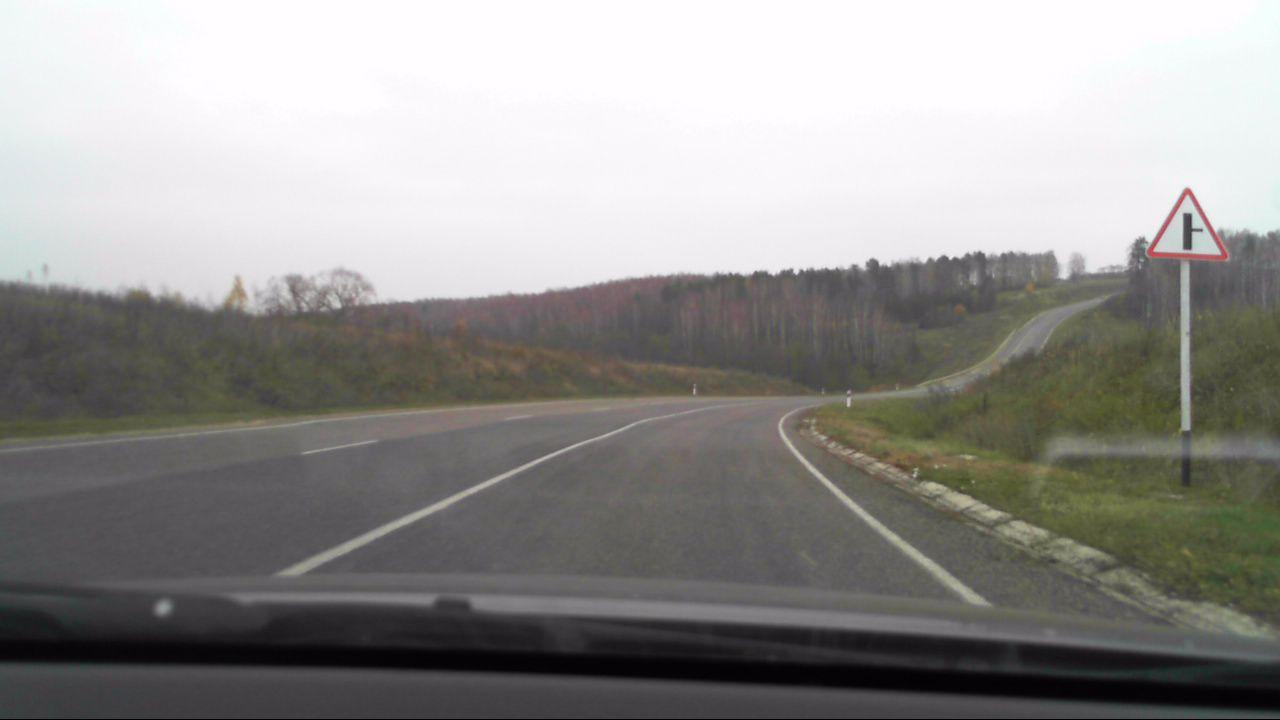2_3_2: (1145, 186, 1230, 261)
